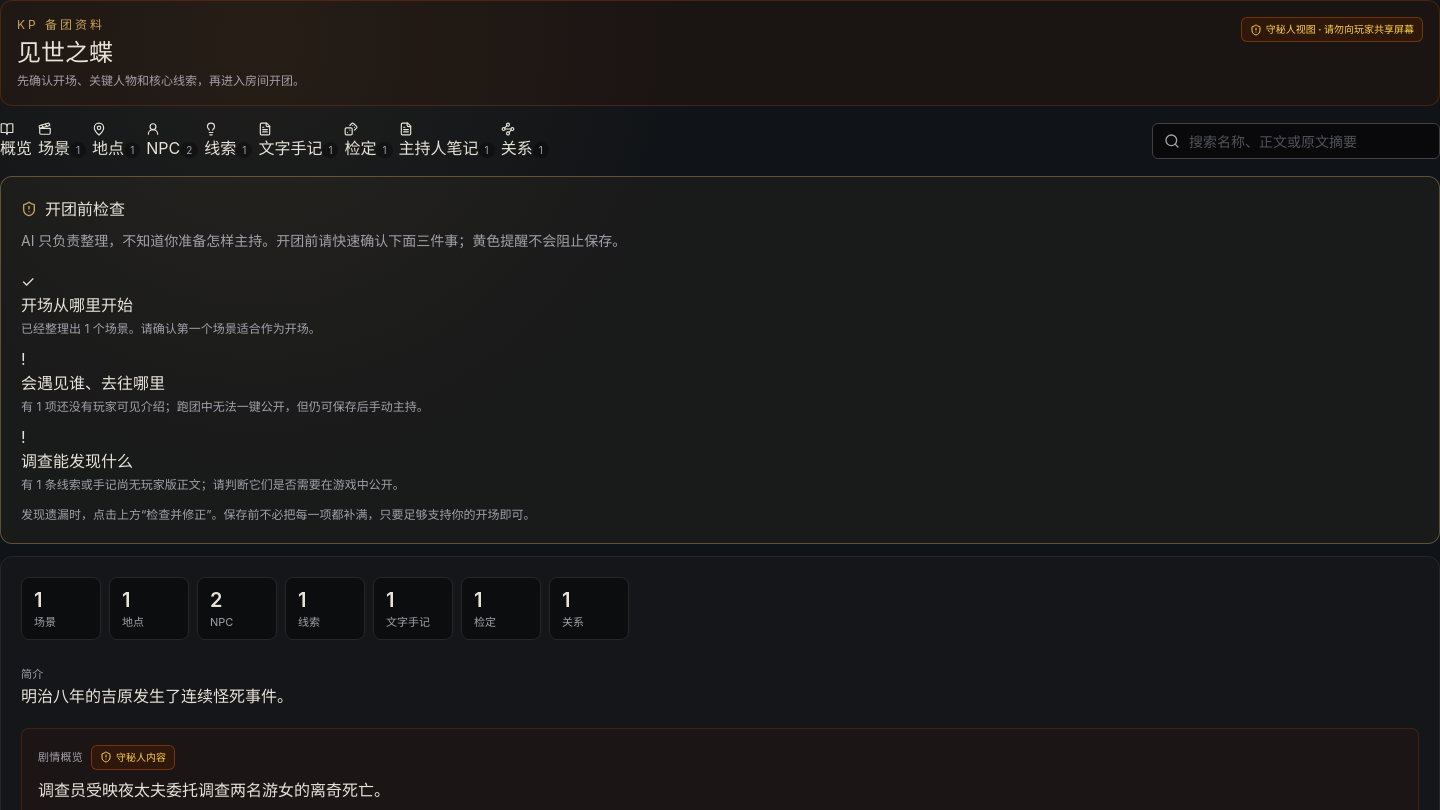
Scenario: ModuleEntityBrowser › marks keeper-only clue text and explains that an empty revealText cannot be shared
Click the tab "线索1".
click(228, 141)  # box [204,122,252,160]
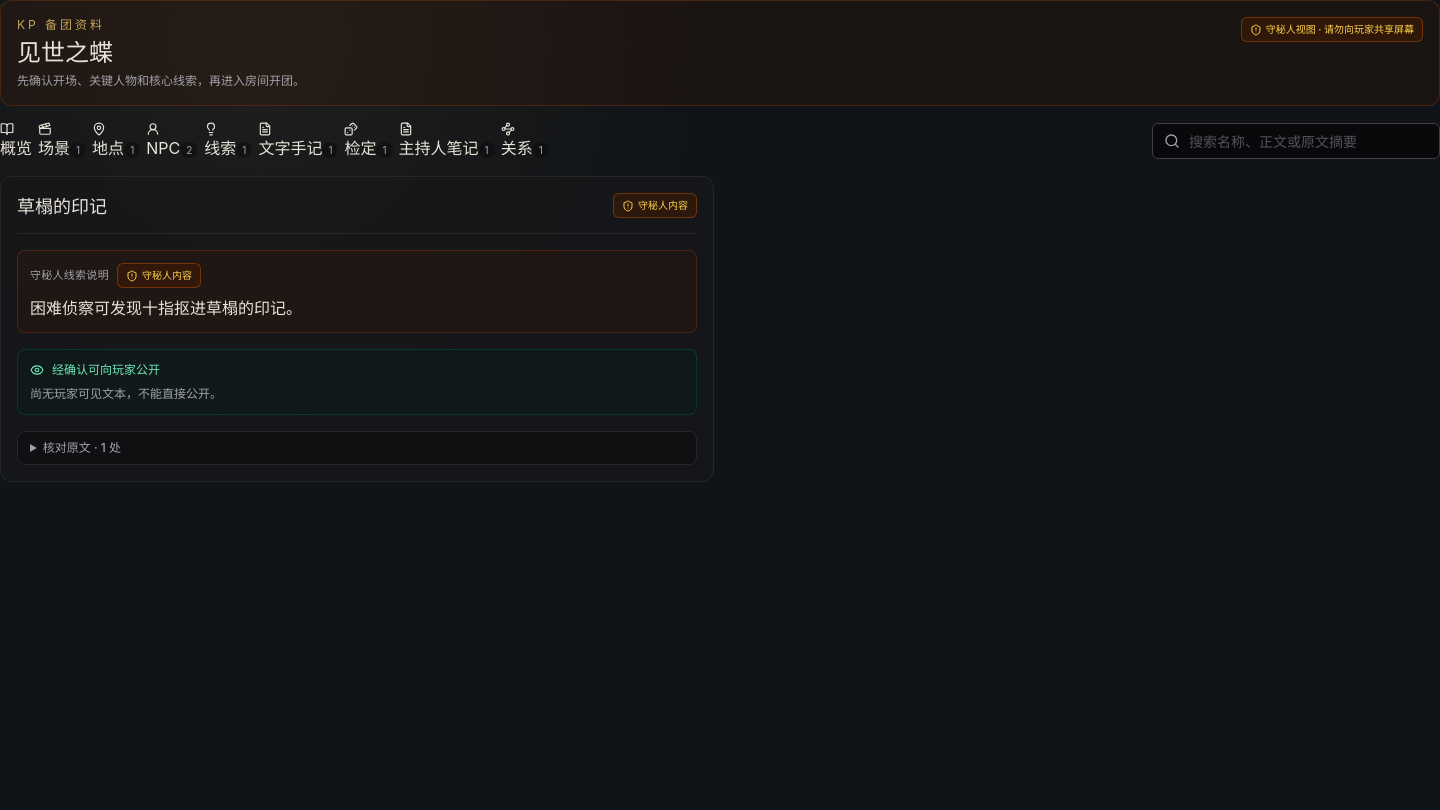
Expected: the heading "草榻的印记" is shown, [17,193,107,221]
Expected: the text "守秘人线索说明" is shown, [30,267,109,284]
Expected: the text "尚无玩家可见文本，不能直接公开。" is shown, [30,386,222,401]
